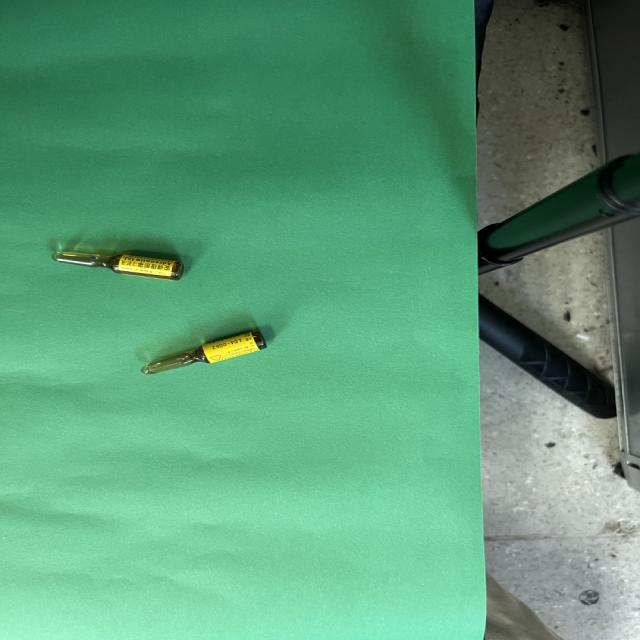Ampoules: (142, 331, 267, 374), (53, 251, 184, 280)
